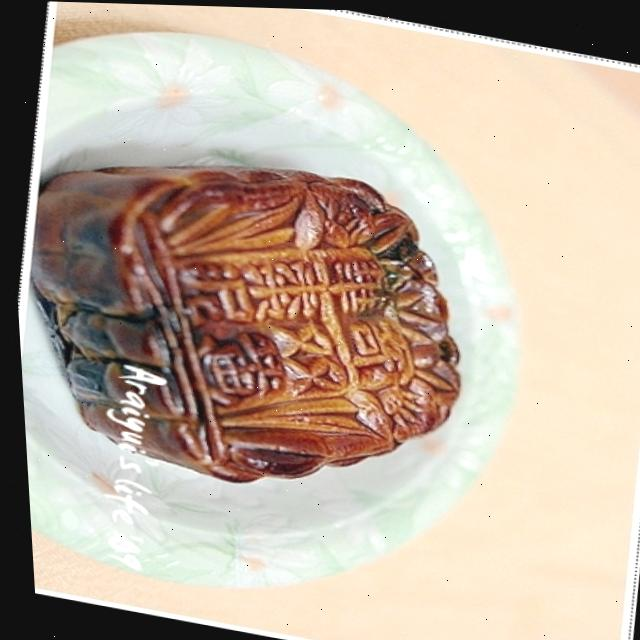蛋糕甜品: (14, 71, 564, 580)
